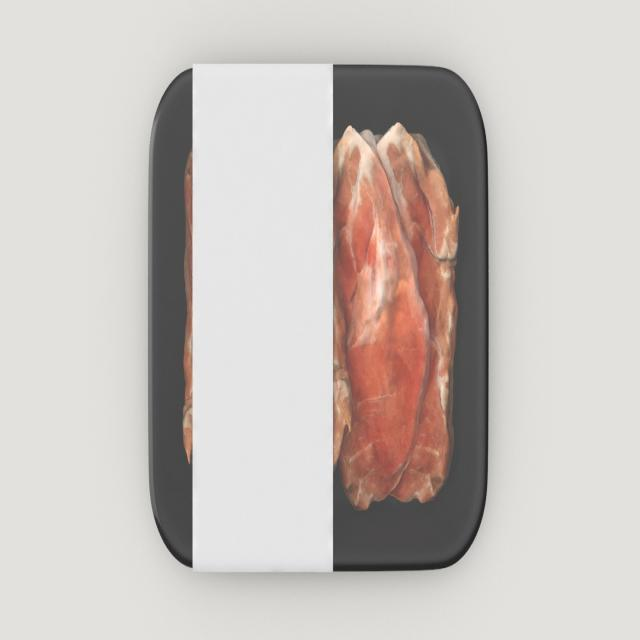pork: (136, 58, 502, 587)
